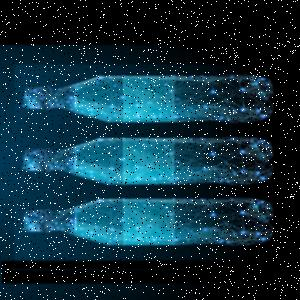Plastic-bottle: (24, 198, 275, 246), (25, 137, 275, 185), (24, 75, 274, 123)
